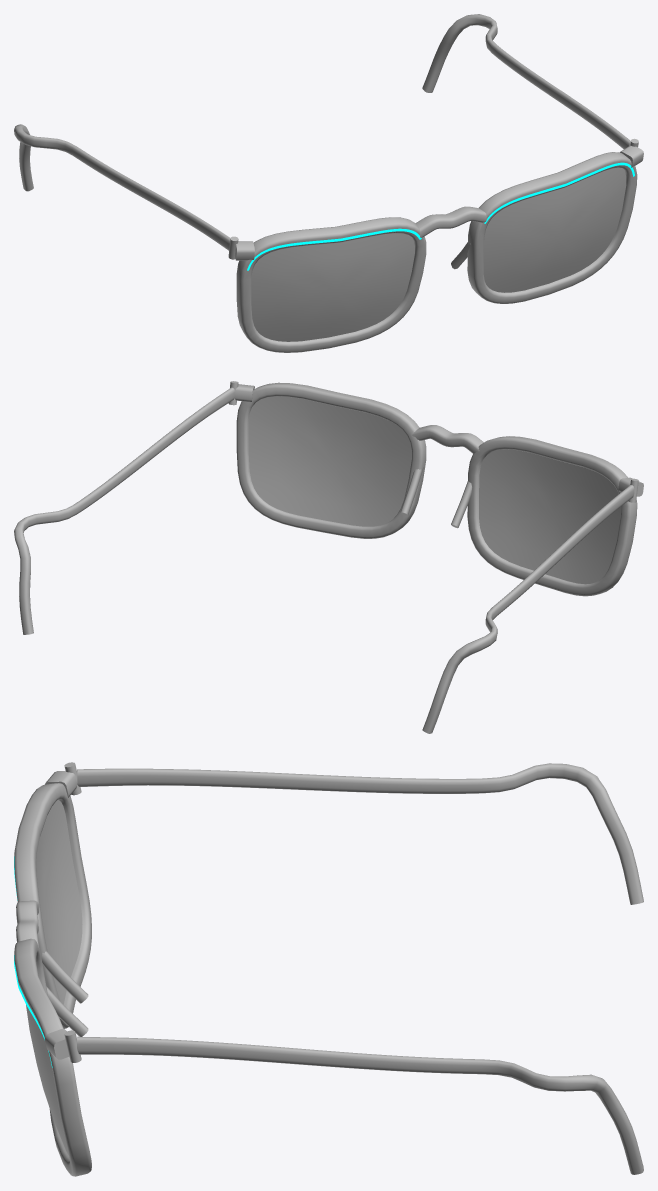
File: kael_shades_led.fbx
3 renders of one model, top to bottom at view 1: azimuth 30°, elevation 25°; view 2: azimuth 150°, elevation 25°; view 3: azimuth 270°, elevation 25°, orthographic. The views are drawn at different scales.
Visible parts, largest first — view 1: kael_shades_led; view 2: kael_shades_led; view 3: kael_shades_led.
Boxes of the visible parts, box(x1,y1,x2,y2) form: kael_shades_led: box(14, 14, 643, 352); kael_shades_led: box(14, 381, 643, 733); kael_shades_led: box(14, 762, 643, 1176).
Size of the model in its own units: 0.1729 by 0.0457 by 0.1452.
